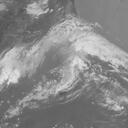cyclone: (37, 13, 116, 107)
